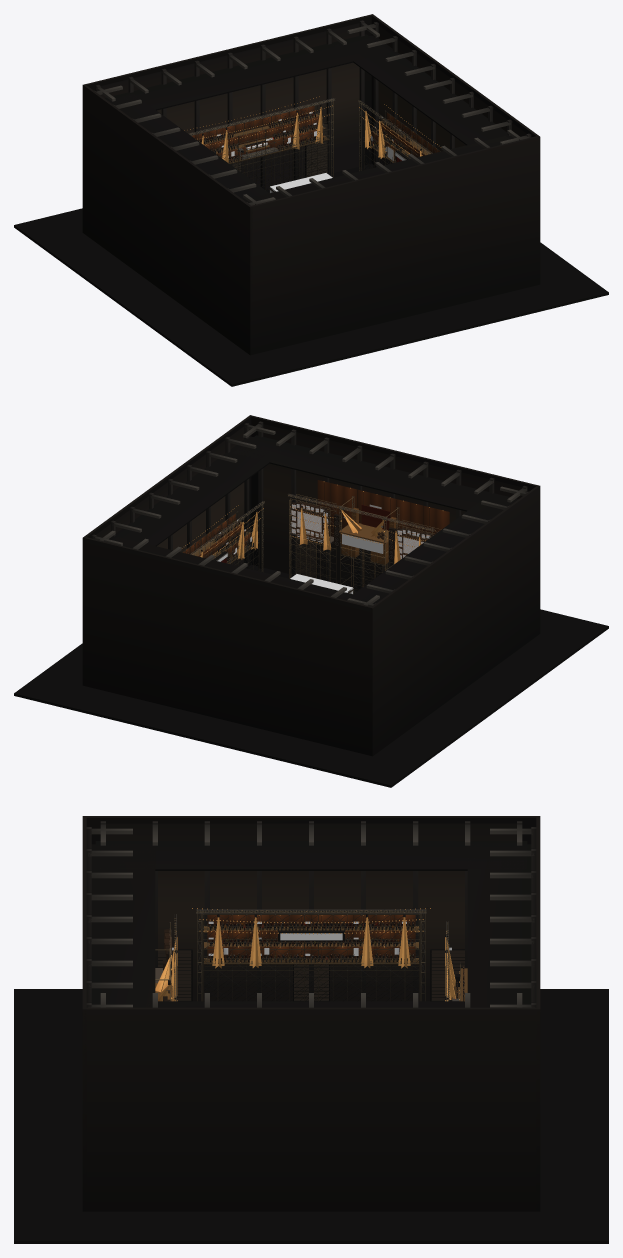
File: MankiMayhemArena.fbx
3 views of the same model, one above another, from view 1: azimuth 30°, elevation 25°; view 2: azimuth 150°, elevation 25°; view 3: azimuth 270°, elevation 25° (orthographic). The views are drawn at different scales.
Parts seen in each view (by area): view 1: Warehouse, Warehouse Light Pools, Scaffold Stands, Venue Backlight, Lighting Rig, Audience, Warm Light Shafts, Audience Fences, Side Identities; view 2: Warehouse, Warehouse Light Pools, Venue Backlight, Host Booth, CRT Walls, Lighting Rig, Scaffold Stands, Warm Light Shafts, Audience; view 3: Warehouse, Warehouse Light Pools, Scaffold Stands, Venue Backlight, Audience, Lighting Rig, Warm Light Shafts, Audience Fences, Side Identities.
Part boxes in pixels (x1,y1,x2,y2): Warehouse: [14, 14, 608, 386]; Warehouse Light Pools: [100, 23, 526, 189]; Scaffold Stands: [192, 105, 440, 192]; Venue Backlight: [192, 106, 439, 158]; Lighting Rig: [184, 96, 441, 177]; Audience: [196, 110, 412, 162]; Warm Light Shafts: [201, 107, 421, 163]; Audience Fences: [200, 112, 428, 163]; Side Identities: [237, 136, 409, 162]; Warehouse: [14, 415, 608, 787]; Warehouse Light Pools: [96, 424, 522, 590]; Venue Backlight: [183, 480, 449, 558]; Host Booth: [334, 496, 399, 593]; CRT Walls: [289, 494, 441, 582]; Lighting Rig: [181, 494, 435, 578]; Scaffold Stands: [182, 511, 259, 570]; Warm Light Shafts: [201, 508, 421, 564]; Audience: [188, 518, 250, 562]; Warehouse: [14, 816, 608, 1243]; Warehouse Light Pools: [106, 823, 516, 1001]; Scaffold Stands: [203, 914, 467, 1001]; Venue Backlight: [207, 915, 459, 1000]; Audience: [208, 920, 464, 1001]; Lighting Rig: [166, 907, 448, 1001]; Warm Light Shafts: [155, 917, 455, 1001]; Audience Fences: [204, 924, 460, 1000]; Side Identities: [215, 930, 459, 1001].
Size of the model in its own units: 160 by 61 by 160.
